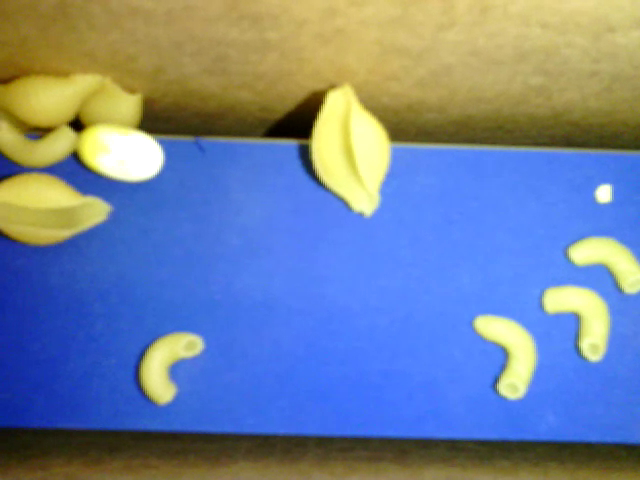elbow: (470, 306, 535, 400), (539, 285, 606, 362), (138, 333, 204, 405), (565, 232, 639, 292), (1, 116, 80, 171)
shell: (308, 82, 395, 216), (1, 168, 118, 251), (1, 65, 108, 127), (80, 73, 146, 136)
